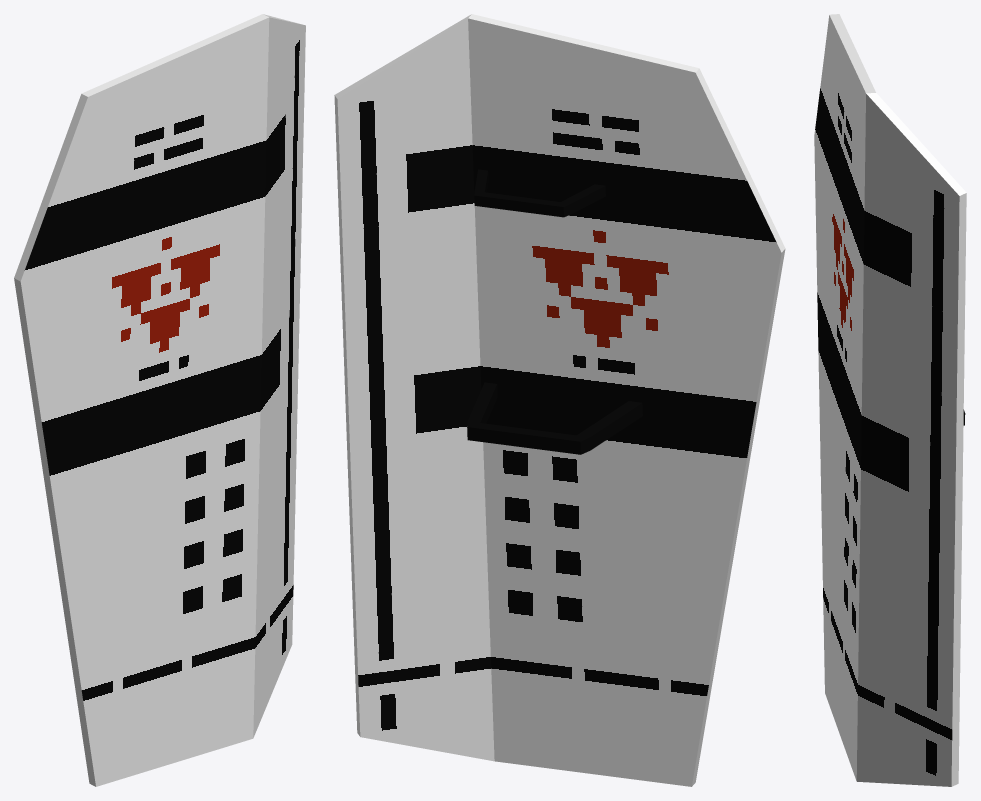
The model's file is SignalisShield.fbx.
3 views of the same model, side by side, from view 1: azimuth 30°, elevation 25°; view 2: azimuth 150°, elevation 25°; view 3: azimuth 270°, elevation 25° (orthographic). The views are drawn at different scales.
Visible parts, largest first — view 1: STARShield; view 2: STARShield; view 3: STARShield.
Boxes of the visible parts, bbox=[...] form: STARShield: bbox=[14, 14, 305, 786]; STARShield: bbox=[334, 14, 785, 786]; STARShield: bbox=[814, 14, 966, 786].
Bounding box in the file's own units: 0.4851 × 0.9155 × 0.1811.
1 material, 1 textured.
